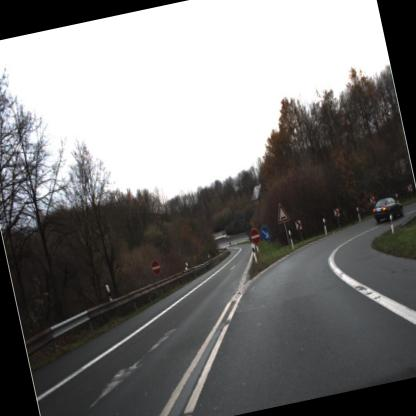danger: (272, 199, 291, 226)
mandatory: (258, 222, 274, 245)
other: (245, 223, 264, 247), (148, 257, 166, 278)
